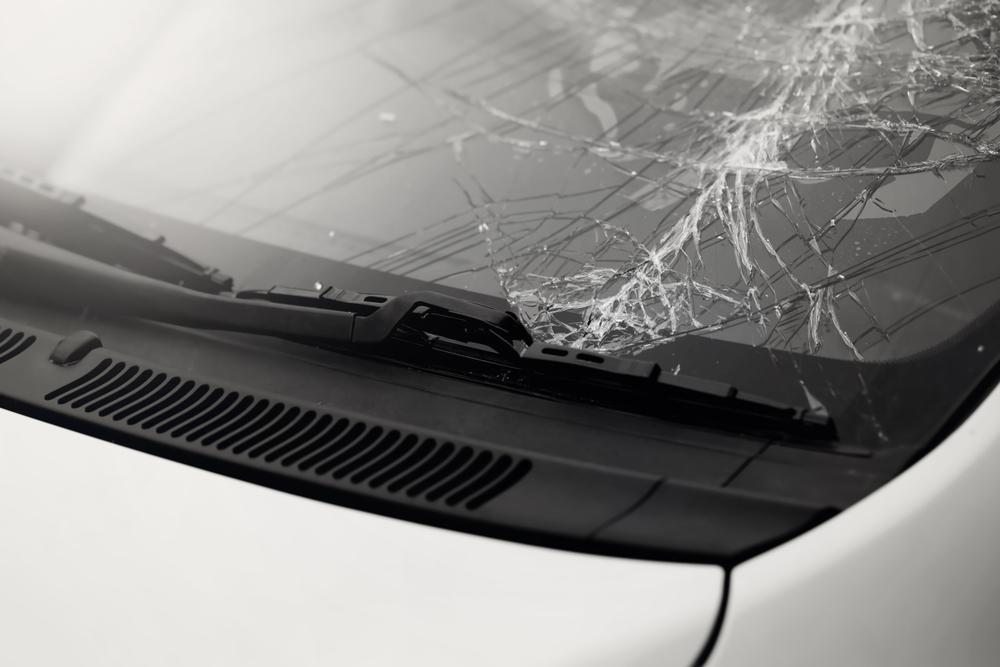glass shatter: (0, 0, 1000, 450)
